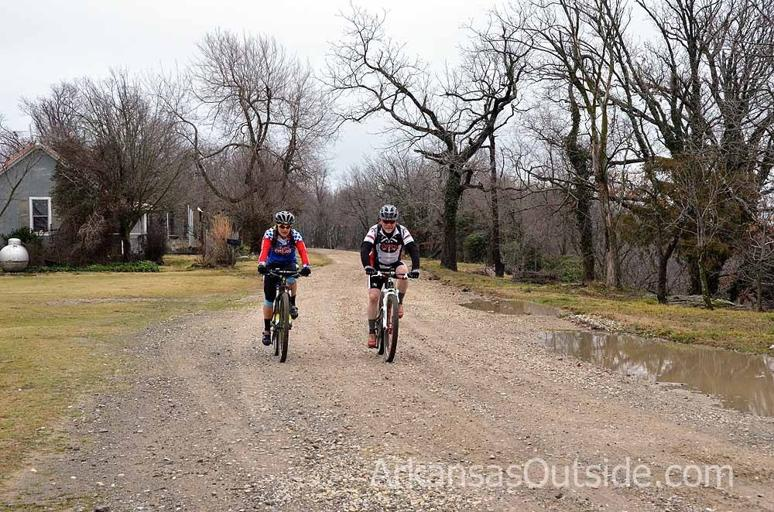non-vehicle: (369, 266, 409, 361), (265, 269, 301, 363)
